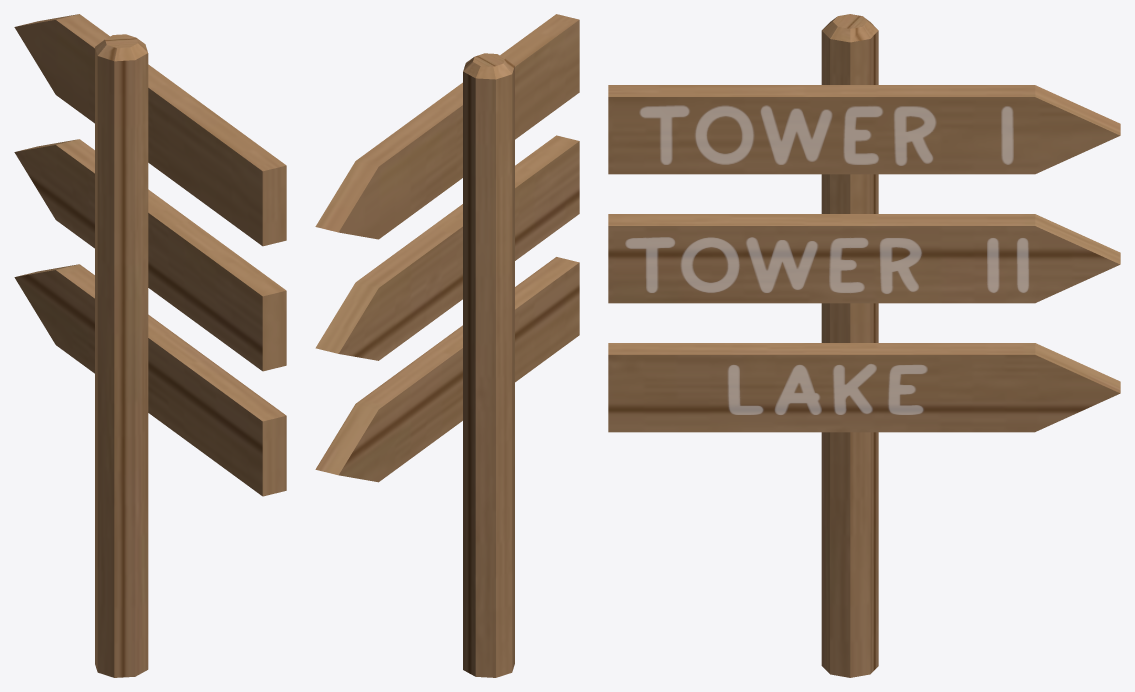
File: Sign.fbx
3 views of the same model, side by side, from view 1: azimuth 30°, elevation 25°; view 2: azimuth 150°, elevation 25°; view 3: azimuth 270°, elevation 25° (orthographic). The views are drawn at different scales.
Parts seen in each view (by area): view 1: SignPole, Sign1, Sign3, Sign2; view 2: SignPole, Sign1, Sign2, Sign3; view 3: Sign1, Sign2, Sign3, SignPole.
Part boxes in pixels (x1,y1,x2,y2): SignPole: [95, 34, 148, 677]; Sign1: [14, 14, 286, 246]; Sign3: [14, 264, 286, 496]; Sign2: [14, 139, 286, 371]; SignPole: [463, 53, 514, 677]; Sign1: [315, 14, 579, 239]; Sign2: [315, 135, 579, 360]; Sign3: [315, 257, 579, 482]; Sign1: [608, 85, 1120, 174]; Sign2: [608, 214, 1120, 303]; Sign3: [608, 343, 1120, 432]; SignPole: [821, 14, 878, 677].
Size of the model in its own units: 30 by 250 by 180.
1 material, 1 textured.
